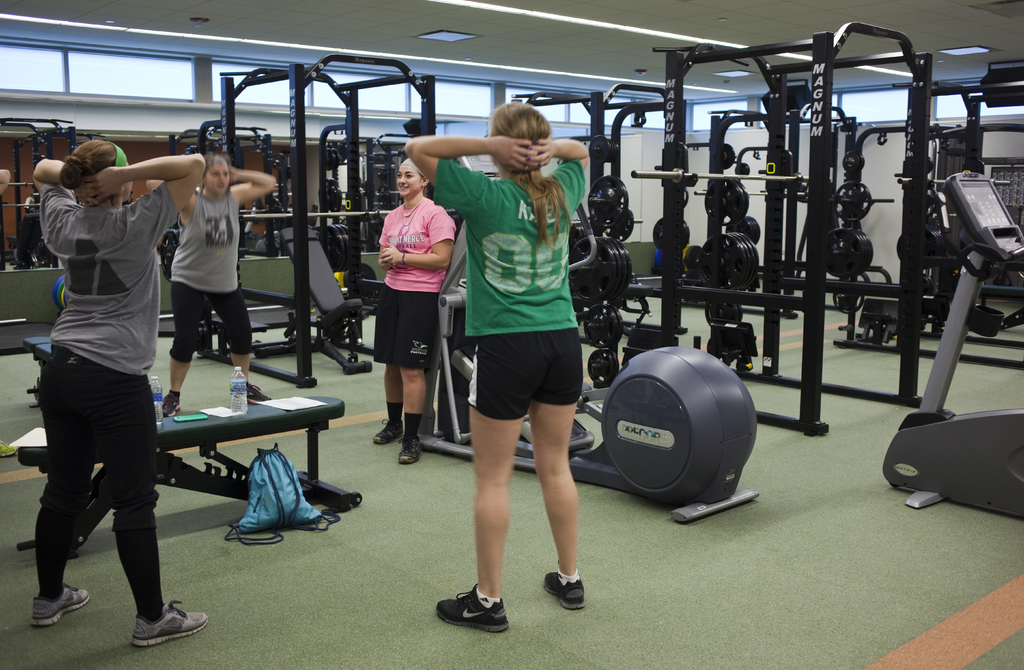Person: (409, 98, 589, 630), (32, 138, 207, 651), (144, 151, 280, 415), (373, 159, 456, 465)
